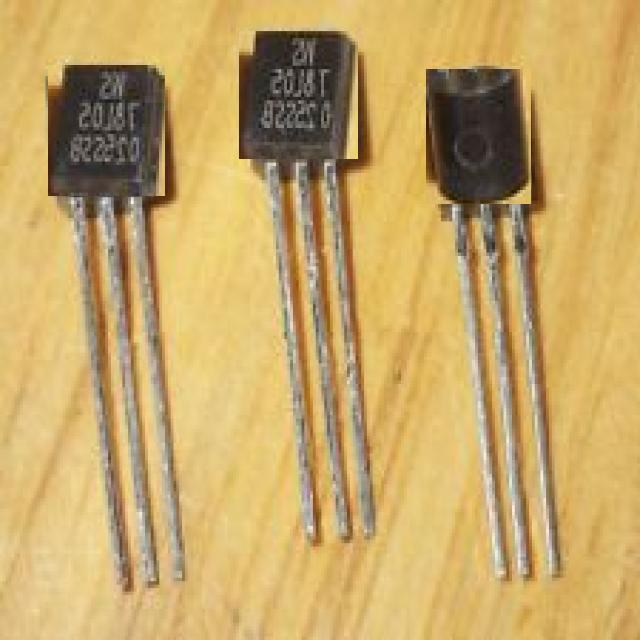Transistor: (33, 51, 227, 607), (230, 22, 419, 560), (413, 53, 586, 594)
